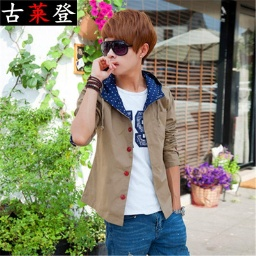face: (102, 9, 158, 79)
